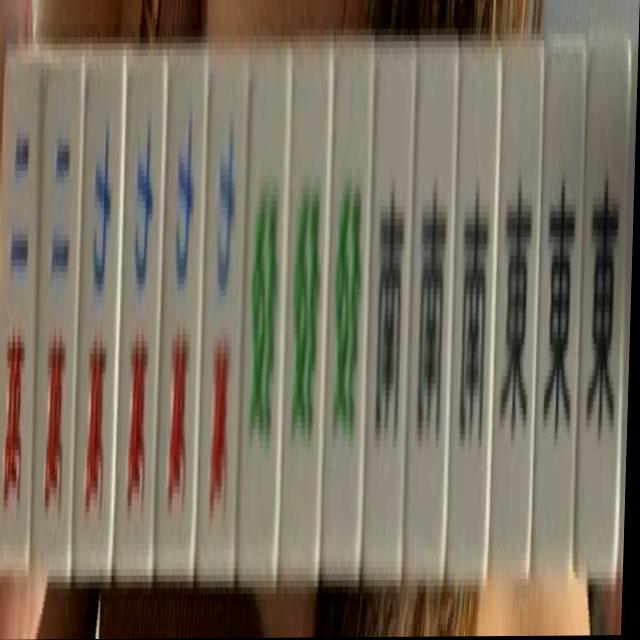east: (574, 59, 630, 552), (531, 55, 587, 545), (491, 55, 543, 559)
fa: (238, 84, 290, 569), (322, 74, 372, 561), (281, 74, 330, 558)
m2: (31, 85, 80, 556), (0, 81, 40, 554)
m7: (112, 71, 166, 569), (71, 62, 123, 558), (155, 71, 207, 546), (198, 89, 247, 553)
south: (362, 56, 416, 569), (405, 65, 458, 564), (448, 60, 500, 568)
